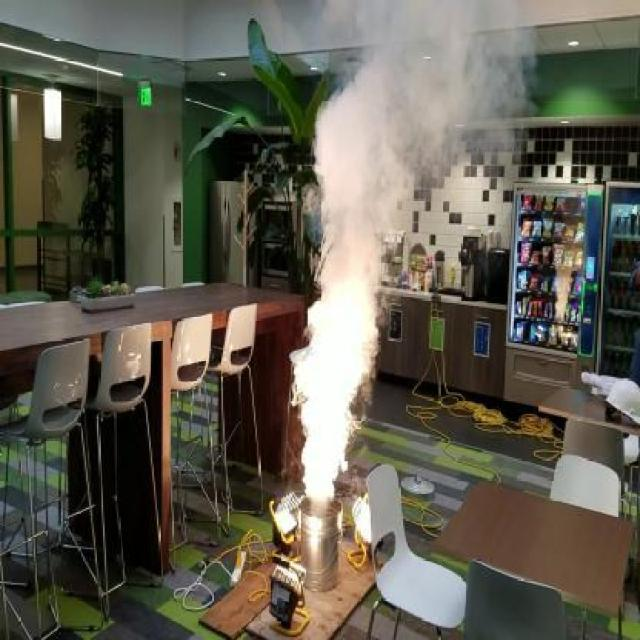fire: (313, 0, 538, 174), (292, 280, 385, 500), (310, 82, 413, 278)
